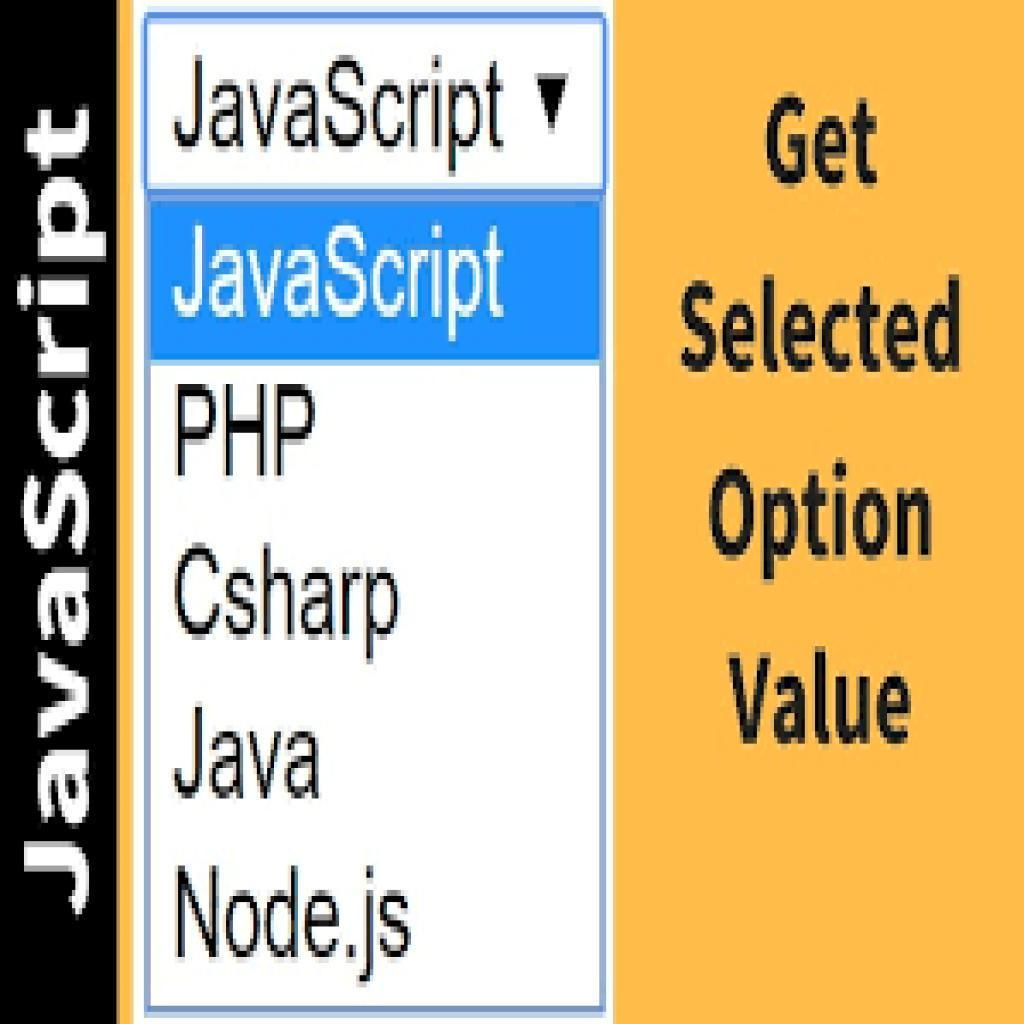dropdown: (143, 18, 607, 192)
